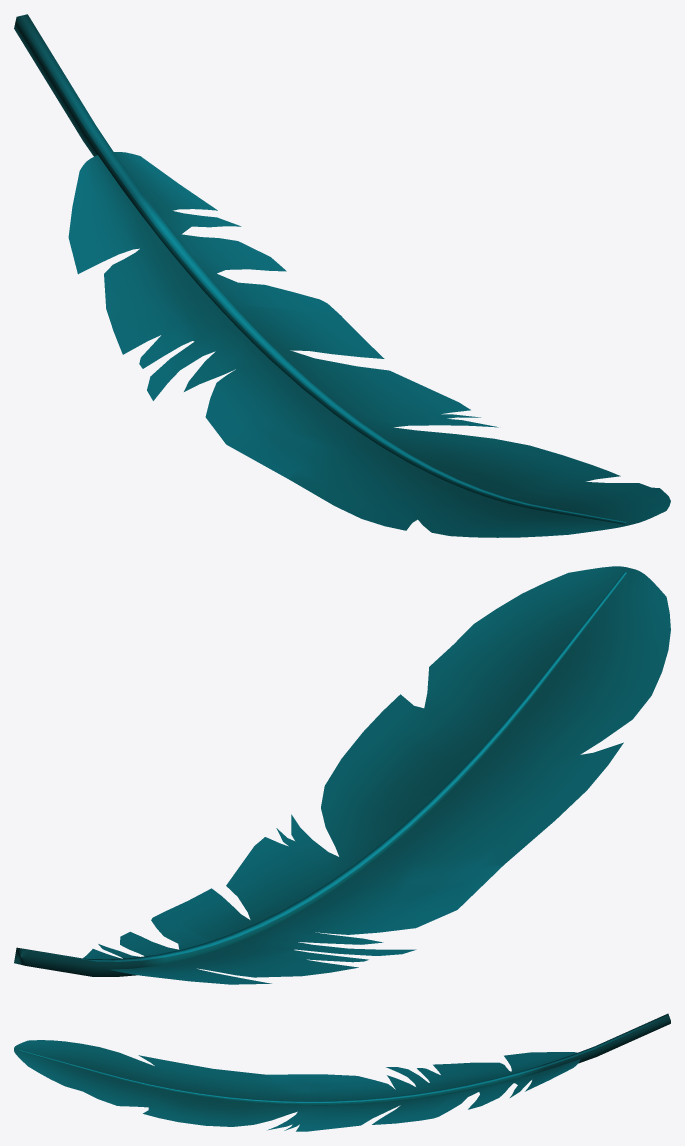
File: animals-animalparts-blackfeather_v2.fbx
The picture shows the model from 3 angles, top to bottom: view 1: azimuth 30°, elevation 25°; view 2: azimuth 150°, elevation 25°; view 3: azimuth 270°, elevation 25°; orthographic projection. The views are drawn at different scales.
Visible parts, largest first — view 1: BlackFeather_v2; view 2: BlackFeather_v2; view 3: BlackFeather_v2.
Part boxes in pixels (x1,y1,x2,y2): BlackFeather_v2: (14, 14, 670, 537); BlackFeather_v2: (14, 566, 670, 984); BlackFeather_v2: (14, 1013, 670, 1131).
Size of the model in its own units: 0.4726 by 0.3147 by 2.03.
